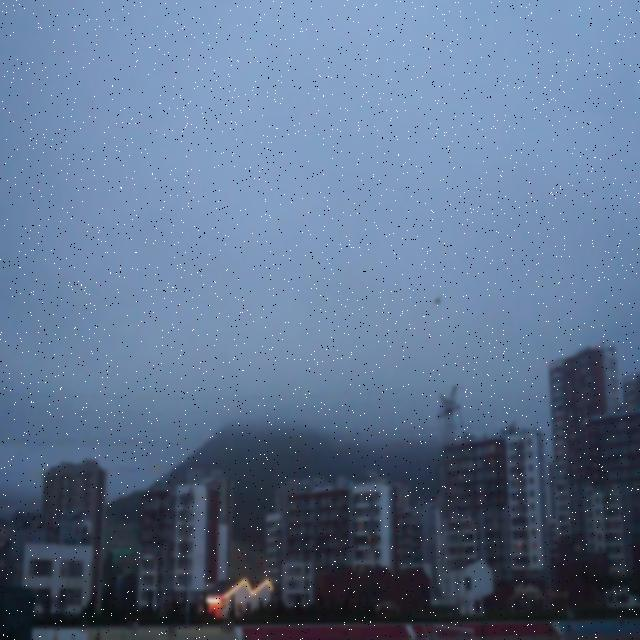UAV: (432, 294, 441, 306)
